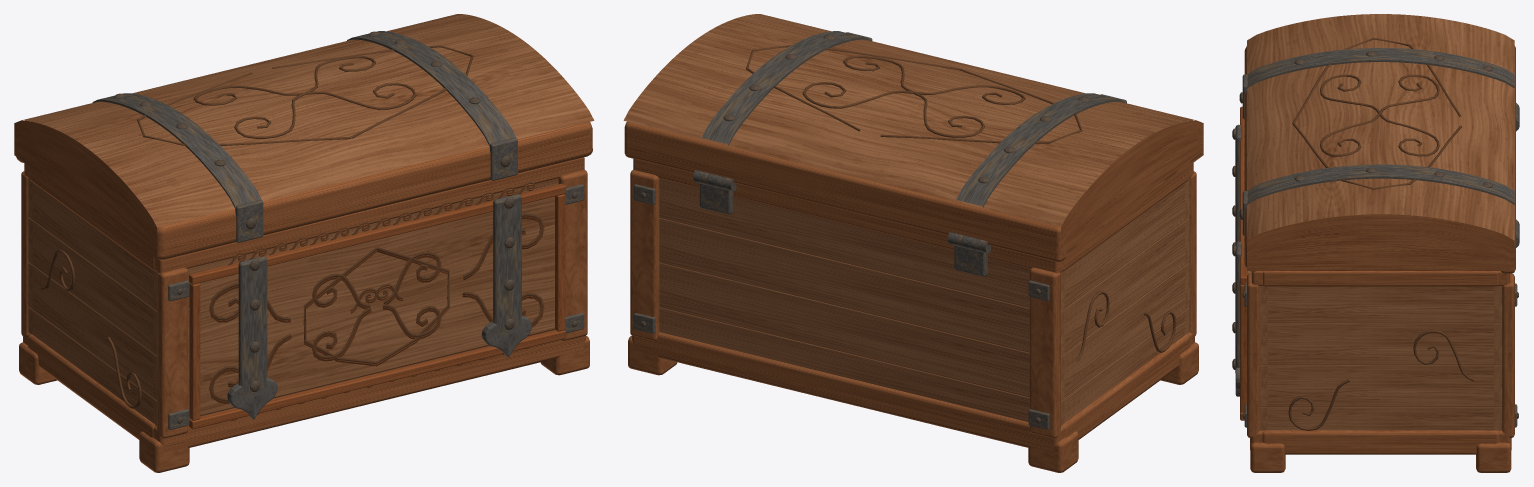
File: sandyk.glb
3 renders of one model, left to right at view 1: azimuth 30°, elevation 25°; view 2: azimuth 150°, elevation 25°; view 3: azimuth 270°, elevation 25°, orthographic. The views are drawn at different scales.
Parts seen in each view (by area): view 1: Sandyk_Body, Sandyk_Lid_Hinge; view 2: Sandyk_Body, Sandyk_Lid_Hinge; view 3: Sandyk_Lid_Hinge, Sandyk_Body.
Boxes of the visible parts, bbox=[...] form: Sandyk_Body: bbox=[19, 157, 589, 472]; Sandyk_Lid_Hinge: bbox=[14, 14, 594, 259]; Sandyk_Body: bbox=[628, 159, 1198, 472]; Sandyk_Lid_Hinge: bbox=[623, 14, 1203, 261]; Sandyk_Lid_Hinge: bbox=[1239, 14, 1515, 273]; Sandyk_Body: bbox=[1232, 103, 1519, 472].
Bounding box in the file's own units: 0.911 × 0.5611 × 0.5526.
7 materials, 6 textured.
